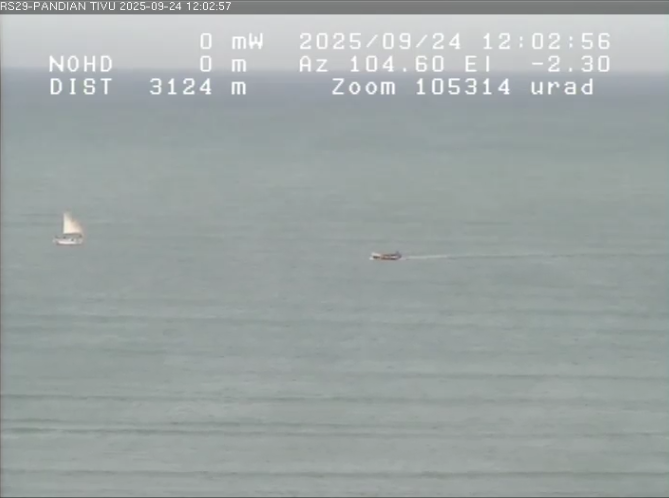FISHING_BOAT: (360, 239, 461, 264)
SAIL_BOAT: (44, 206, 100, 253)
